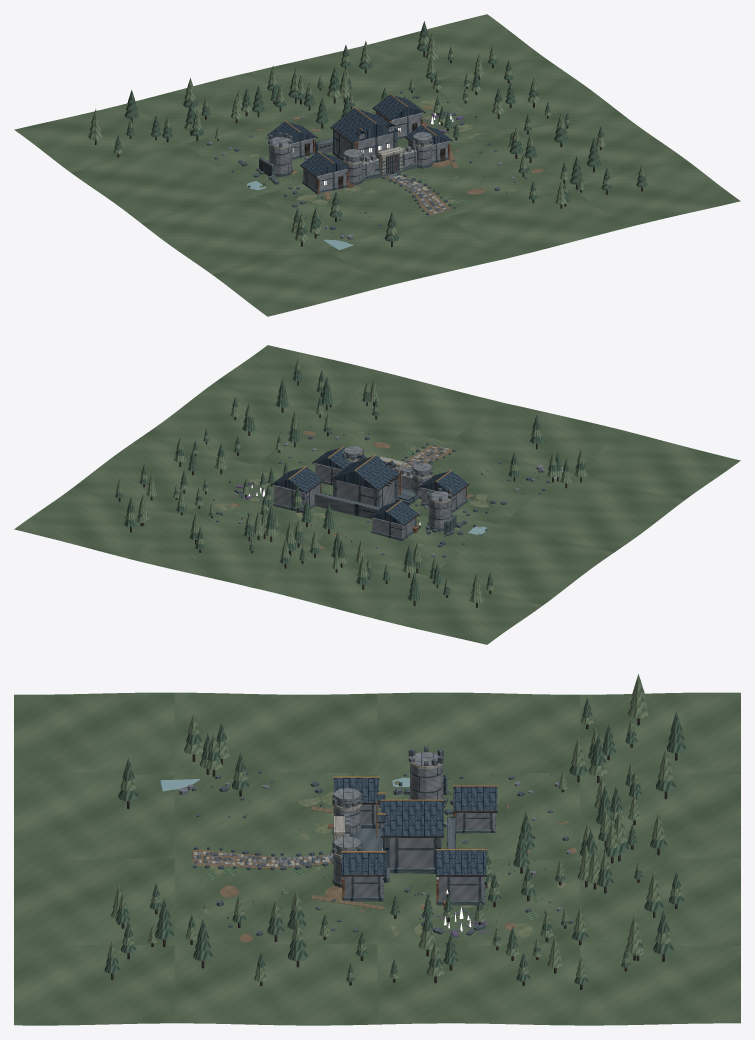
File: CC0_Valoria_Stage3.glb
The picture shows the model from 3 angles, top to bottom: view 1: azimuth 30°, elevation 25°; view 2: azimuth 150°, elevation 25°; view 3: azimuth 270°, elevation 25°; orthographic projection. The views are drawn at different scales.
Visible parts, largest first — view 1: worn Valoria terrain mesh, great hall | pitched slate, Barracks lodge | pitched slate, bastion | great hall, watchtower core.005, Timber workshop | pitched slate, Timber workshop | stone and wood, Stone quarry | pitched slate; view 2: worn Valoria terrain mesh, great hall | pitched slate, bastion | great hall, old wall | rear foot, Barracks lodge | pitched slate, watchtower core.005, Stone quarry | pitched slate, Timber workshop | pitched slate, Barracks lodge | stone and wood, Stone quarry | stone and wood; view 3: worn Valoria terrain mesh, great hall | pitched slate, bastion | great hall, watchtower core.005, Barracks lodge | pitched slate, Stone quarry | pitched slate, Barracks lodge | stone and wood, Granary | pitched slate, Granary | stone and wood, Timber workshop | pitched slate, entry court | fortified foundation, Stone quarry | stone and wood.
Part boxes in pixels (left/top/right/bottom): worn Valoria terrain mesh: left=14, top=14, right=740, bottom=316; great hall | pitched slate: left=331, top=108, right=398, bottom=142; Barracks lodge | pitched slate: left=373, top=95, right=424, bottom=120; bastion | great hall: left=336, top=132, right=393, bottom=160; watchtower core.005: left=269, top=137, right=291, bottom=177; Timber workshop | pitched slate: left=301, top=152, right=349, bottom=176; Timber workshop | stone and wood: left=303, top=168, right=347, bottom=190; Stone quarry | pitched slate: left=268, top=121, right=316, bottom=142; worn Valoria terrain mesh: left=14, top=345, right=740, bottom=644; great hall | pitched slate: left=331, top=455, right=399, bottom=489; bastion | great hall: left=337, top=479, right=394, bottom=507; old wall | rear foot: left=314, top=492, right=380, bottom=519; Barracks lodge | pitched slate: left=272, top=467, right=322, bottom=492; watchtower core.005: left=428, top=491, right=451, bottom=531; Stone quarry | pitched slate: left=369, top=501, right=418, bottom=524; Timber workshop | pitched slate: left=419, top=471, right=468, bottom=494; Barracks lodge | stone and wood: left=274, top=484, right=320, bottom=509; Stone quarry | stone and wood: left=372, top=517, right=415, bottom=537; worn Valoria terrain mesh: left=14, top=692, right=740, bottom=1025; great hall | pitched slate: left=381, top=801, right=443, bottom=836; bastion | great hall: left=390, top=838, right=434, bottom=867; watchtower core.005: left=410, top=752, right=442, bottom=799; Barracks lodge | pitched slate: left=436, top=850, right=486, bottom=875; Stone quarry | pitched slate: left=453, top=786, right=497, bottom=810; Barracks lodge | stone and wood: left=438, top=877, right=483, bottom=900; Granary | pitched slate: left=342, top=852, right=384, bottom=874; Granary | stone and wood: left=344, top=876, right=382, bottom=896; Timber workshop | pitched slate: left=334, top=778, right=378, bottom=802; entry court | fortified foundation: left=351, top=827, right=389, bottom=882; Stone quarry | stone and wood: left=456, top=813, right=494, bottom=829.
Bounding box in the file's own units: 112 × 9.87 × 104.
29 materials, 23 textured.
